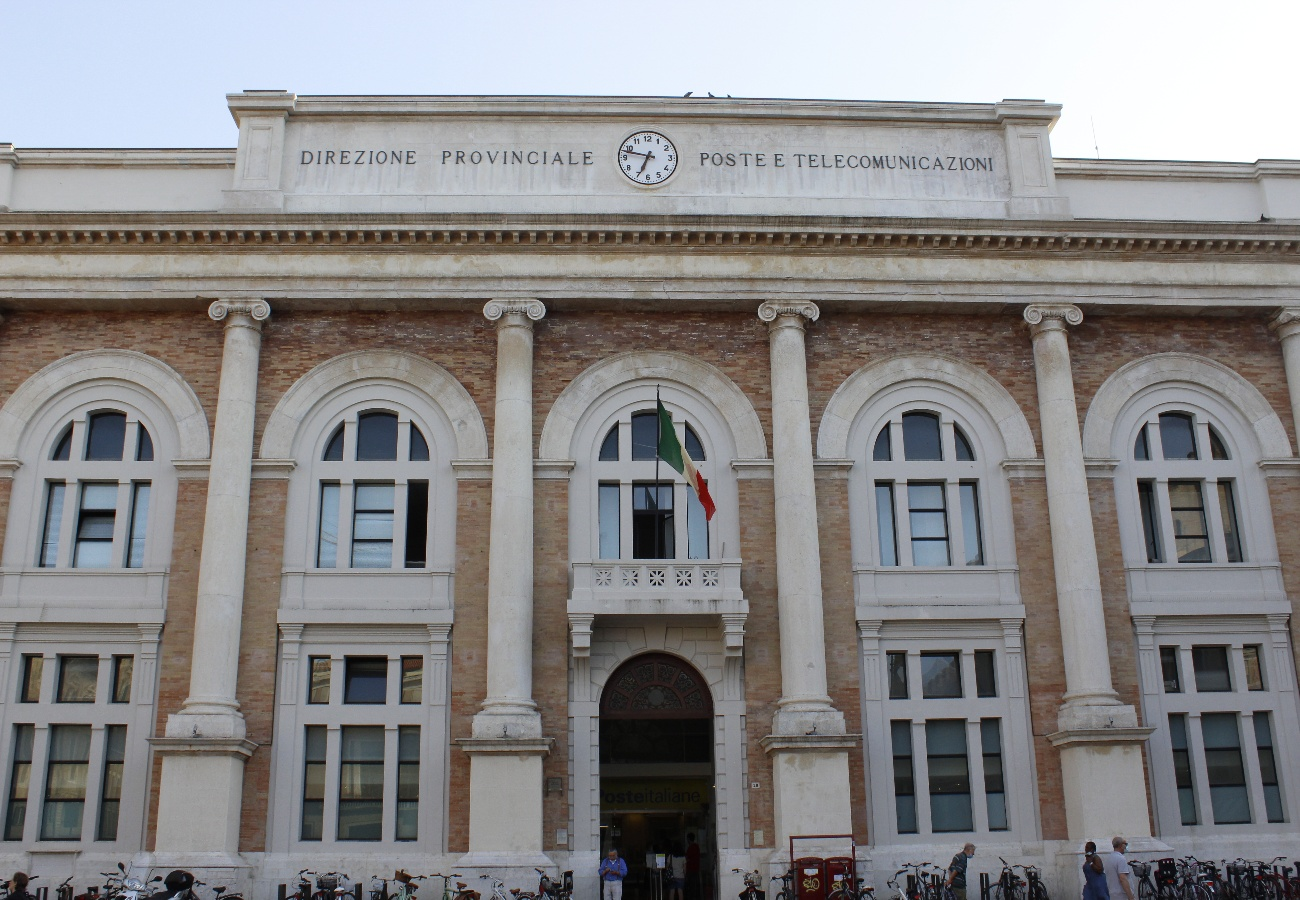Palazzo delle Poste: (1, 98, 1294, 853)
